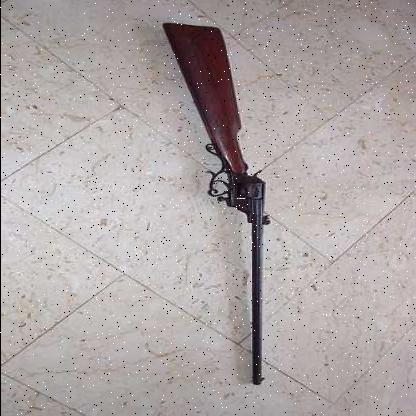rifle: (136, 16, 287, 394)
